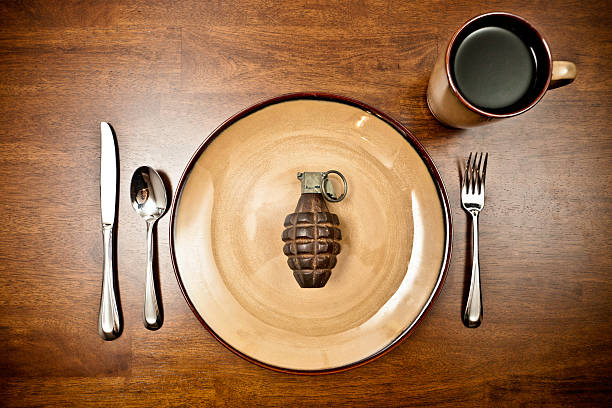e1: (281, 170, 349, 290)
